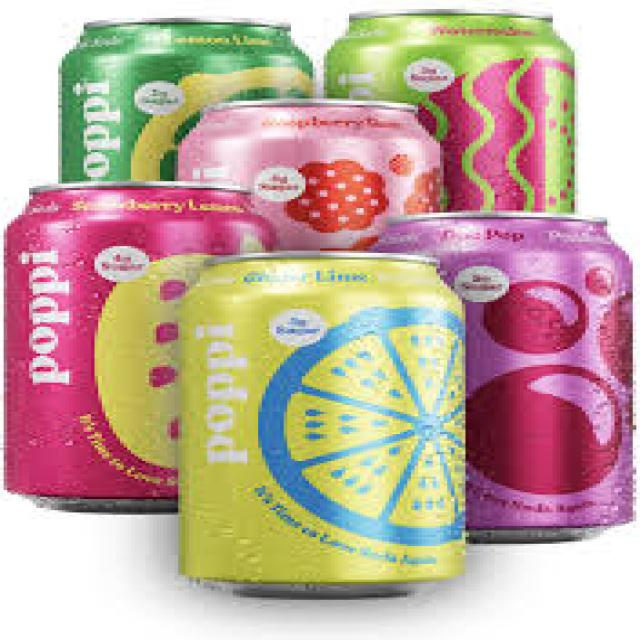Cans: (178, 244, 473, 604)
